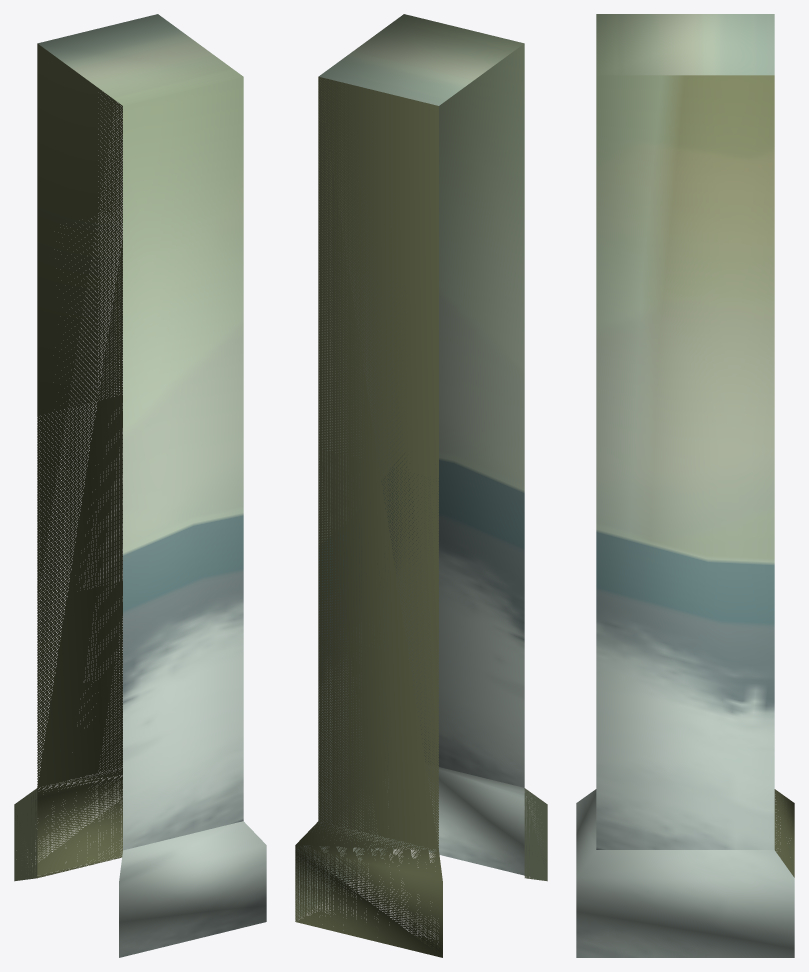
Rendered from Pilar.fbx.
The picture shows the model from 3 angles, left to right: view 1: azimuth 30°, elevation 25°; view 2: azimuth 150°, elevation 25°; view 3: azimuth 270°, elevation 25°; orthographic projection. The views are drawn at different scales.
Parts seen in each view (by area): view 1: Pilar; view 2: Pilar; view 3: Pilar.
Part boxes in pixels (x1=…): Pilar: x1=14, y1=14, x2=266, y2=957; Pilar: x1=295, y1=14, x2=547, y2=957; Pilar: x1=576, y1=14, x2=794, y2=957.
Size of the model in its own units: 75.23 by 92.55 by 410.
